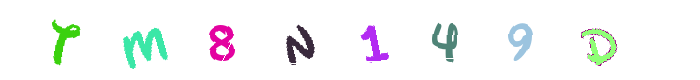1: (312, 0, 392, 80)
4: (392, 0, 472, 80)
8: (260, 0, 340, 80)
9: (412, 0, 492, 80)
D: (502, 0, 582, 80)
M: (104, 0, 184, 80)
N: (276, 0, 356, 80)
T: (23, 0, 103, 80)
